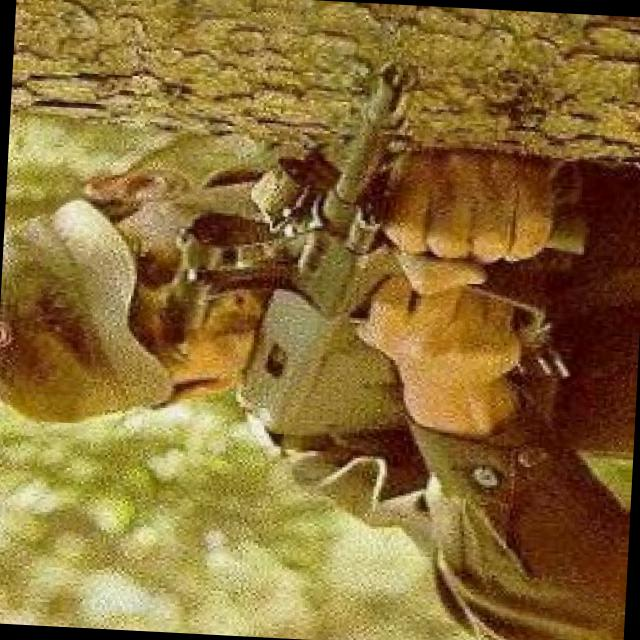long weapon: (207, 42, 483, 516)
